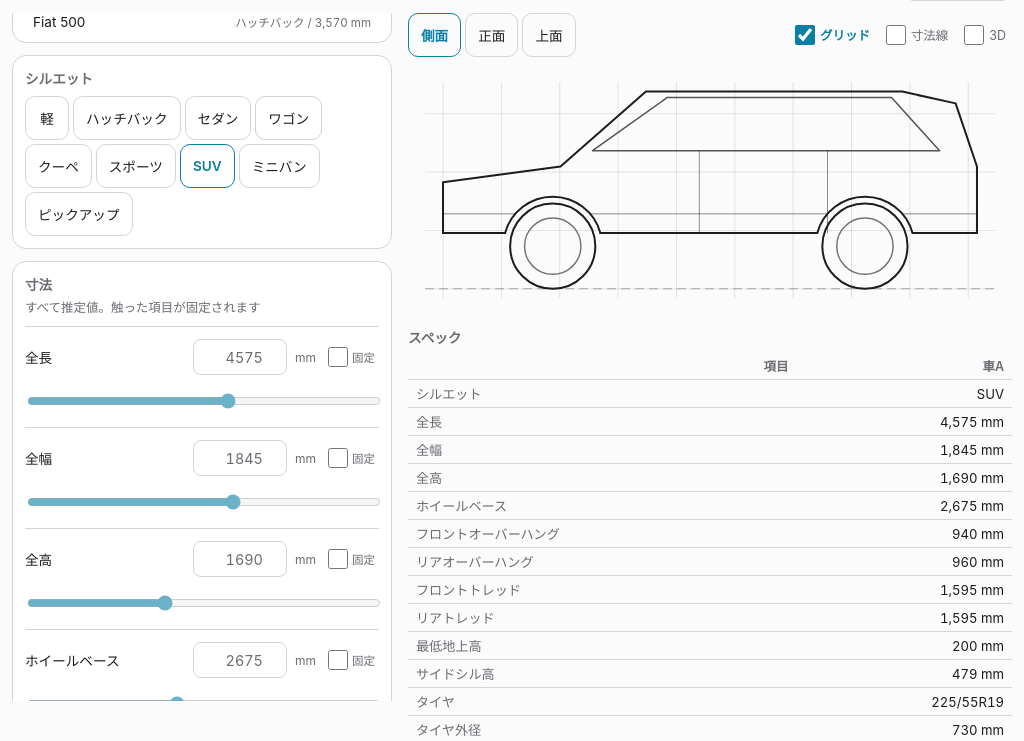
Test: App 寸法の変更とロック › 数値を入力するとその項目が固定され、図に反映される
(page scrolled)
Replace the text in the number field labelled "全長" with "4800": (240, 357) [193,339,287,375]
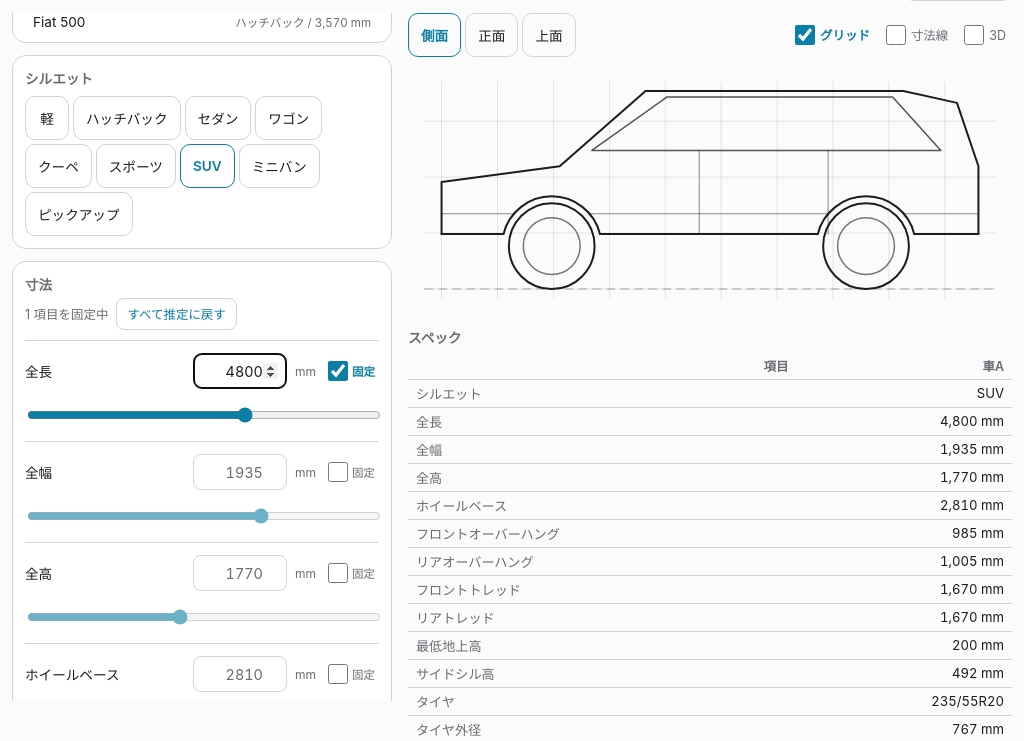
Expected: the 1st checkbox labelled "固定" is checked, [328,361,348,381]
